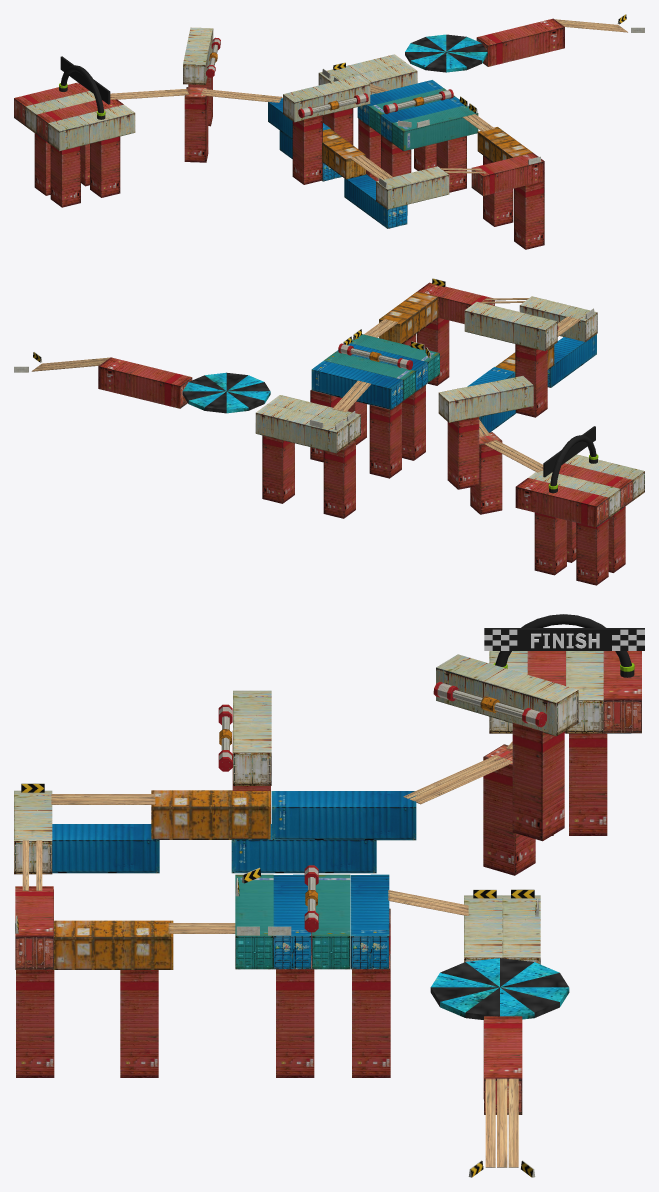
The model's file is 1_Parkour.fbx.
3 views of the same model, one above another, from view 1: azimuth 30°, elevation 25°; view 2: azimuth 150°, elevation 25°; view 3: azimuth 270°, elevation 25° (orthographic). The views are drawn at different scales.
Parts seen in each view (by area): view 1: stcontainerred__20_, stcontainerwhite__8_, TurningPlatform, stcontainergreen__1_, stcontainerwhite__5_, stcontainerwhite__3_, stcontainerred__11_, stcontainerred__12_, stcontainerred__19_, stcontainerred__13_, stcontainerred__17_, stcontainerred__18_ (+29 smaller); view 2: stcontainerwhite__6_, stcontainerred__20_, stcontainerwhite__5_, stcontainerred__22_, stcontainerwhite__2_, TurningPlatform, stcontainerblue, stcontainerred__9_, stcontainerred__5_, stcontainerred__14_, stcontainerred__4_, stcontainerred__13_ (+24 smaller); view 3: stcontainerblue__4_, TurningPlatform, stcontainerwhite__6_, stcontainerorange, stcontainerorange__1_, stcontainerred__14_, stcontainerblue__2_, finishObject, stcontainerblue__3_, stcontainerred__6_, stcontainerred__7_, stcontainerred__19_ (+24 smaller).
Boxes of the visible parts, x1,y1,x2,y2 form: stcontainerred__20_: (476, 18, 564, 66); stcontainerwhite__8_: (48, 104, 135, 151); TurningPlatform: (405, 34, 487, 72); stcontainergreen__1_: (392, 105, 478, 151); stcontainerwhite__5_: (283, 75, 370, 122); stcontainerwhite__3_: (376, 166, 449, 209); stcontainerred__11_: (471, 153, 544, 195); stcontainerred__12_: (292, 115, 322, 184); stcontainerred__19_: (514, 181, 544, 249); stcontainerred__13_: (184, 87, 208, 162); stcontainerred__17_: (50, 145, 80, 207); stcontainerred__18_: (90, 136, 120, 197); stcontainerwhite__6_: (438, 376, 533, 422); stcontainerred__20_: (98, 357, 192, 408); stcontainerwhite__5_: (464, 301, 557, 351); stcontainerred__22_: (515, 478, 608, 527); stcontainerwhite__2_: (255, 404, 348, 453); TurningPlatform: (182, 372, 270, 413); stcontainerblue: (311, 360, 403, 409); stcontainerred__9_: (369, 402, 401, 478); stcontainerred__5_: (323, 441, 355, 518); stcontainerred__14_: (447, 417, 479, 489); stcontainerred__4_: (262, 435, 294, 503); stcontainerred__13_: (470, 432, 502, 514); stcontainerblue__4_: (271, 791, 416, 840); TurningPlatform: (430, 958, 569, 1019); stcontainerwhite__6_: (436, 654, 578, 736); stcontainerorange: (54, 920, 173, 969); stcontainerorange__1_: (151, 790, 270, 839); stcontainerred__14_: (512, 722, 564, 841); stcontainerblue__2_: (52, 824, 159, 873); finishObject: (484, 614, 644, 677); stcontainerblue__3_: (231, 824, 376, 873); stcontainerred__6_: (352, 954, 390, 1077); stcontainerred__7_: (276, 954, 314, 1077); stcontainerred__19_: (16, 969, 54, 1077).
Size of the model in its own units: 15649 by 3879 by 8787.
